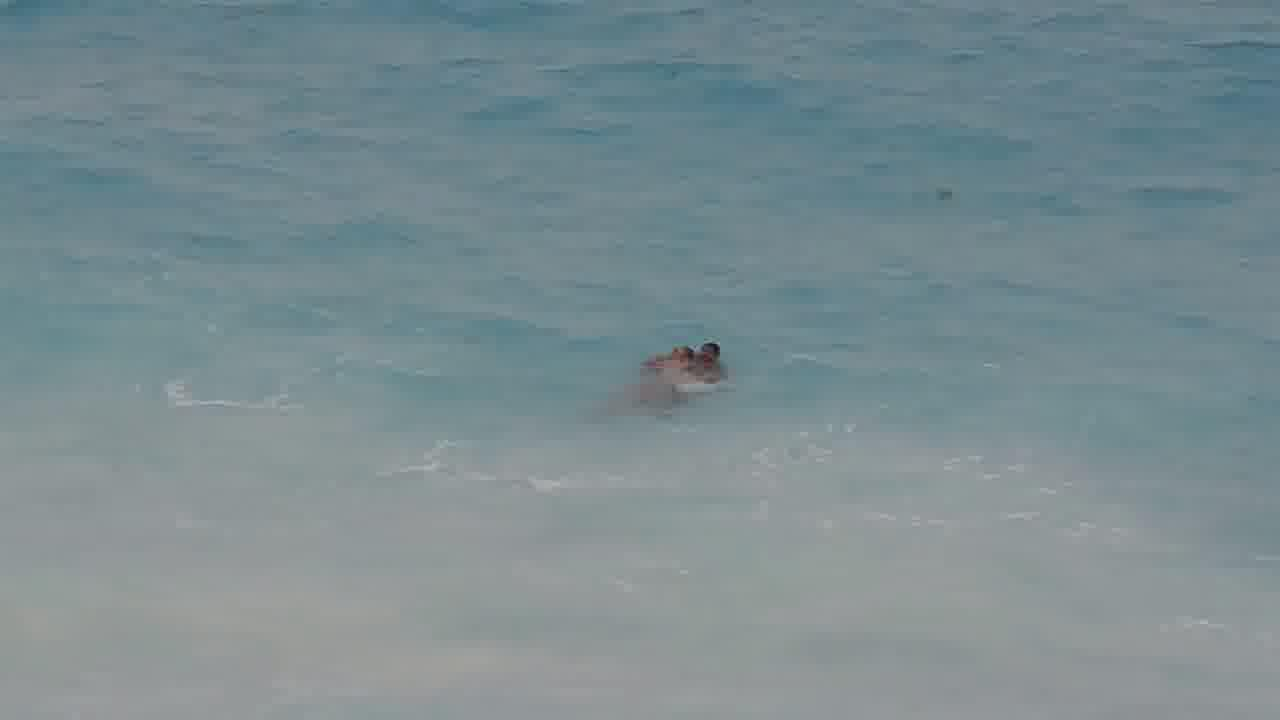human: (699, 338, 728, 371), (658, 343, 693, 360)
